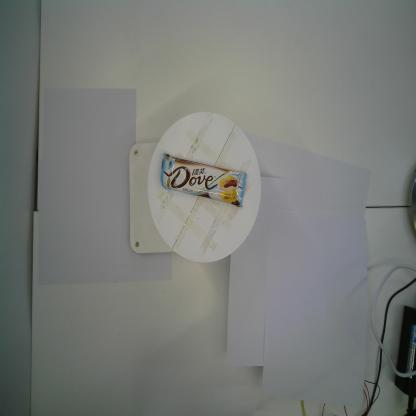Chocolate: (160, 152, 247, 208)
